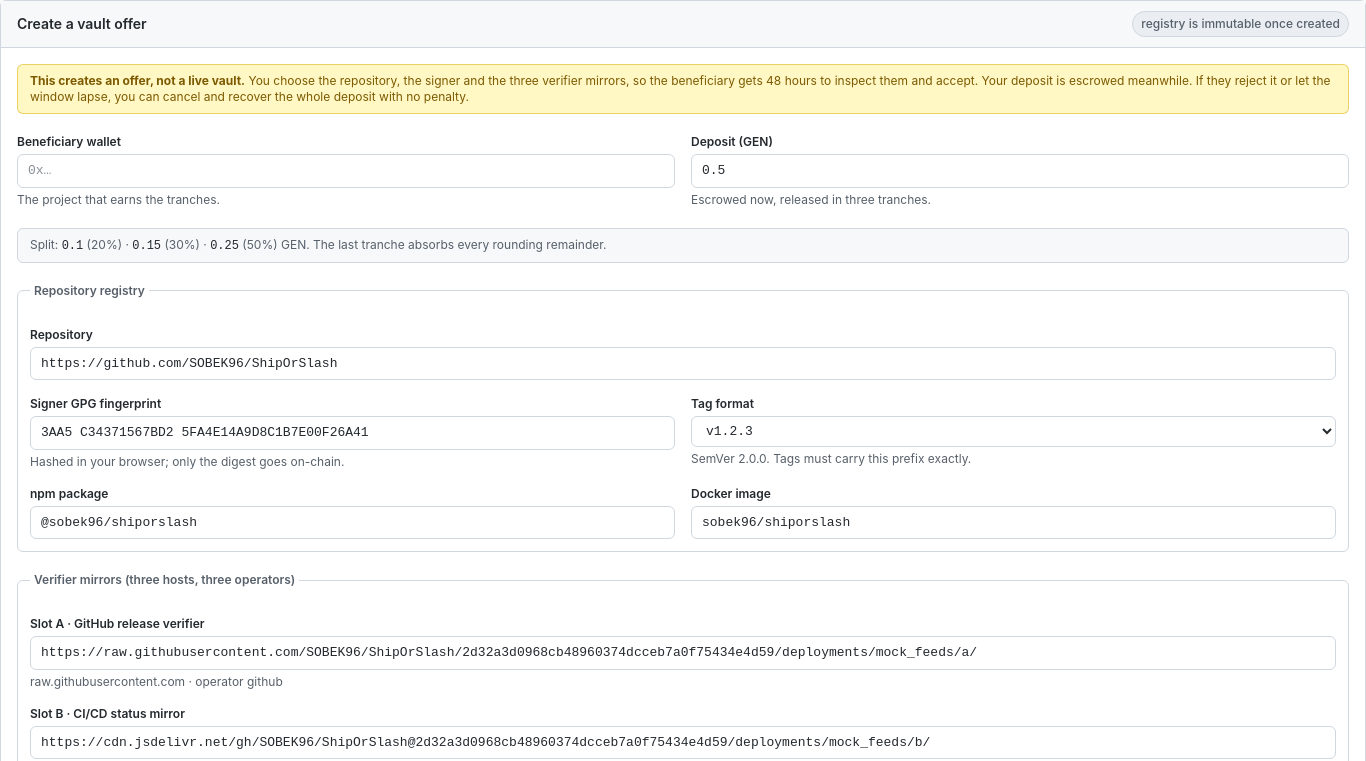
Test: VaultCreator › requires a deposit above the floor
Replace the text in the field showing "0.5" with "0.0001" at (1020, 171), box [691, 154, 1349, 188]
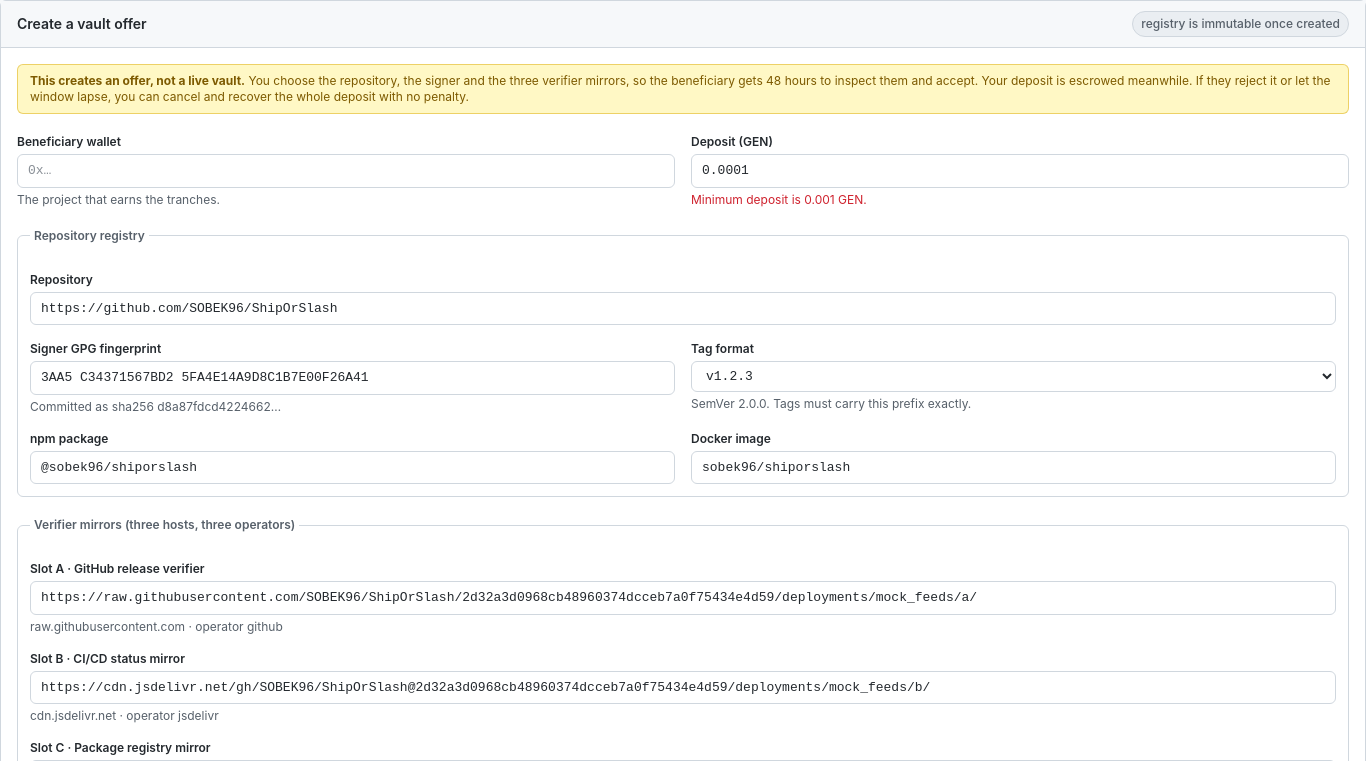
Check: the message shows "Minimum deposit", box [691, 192, 867, 206]
